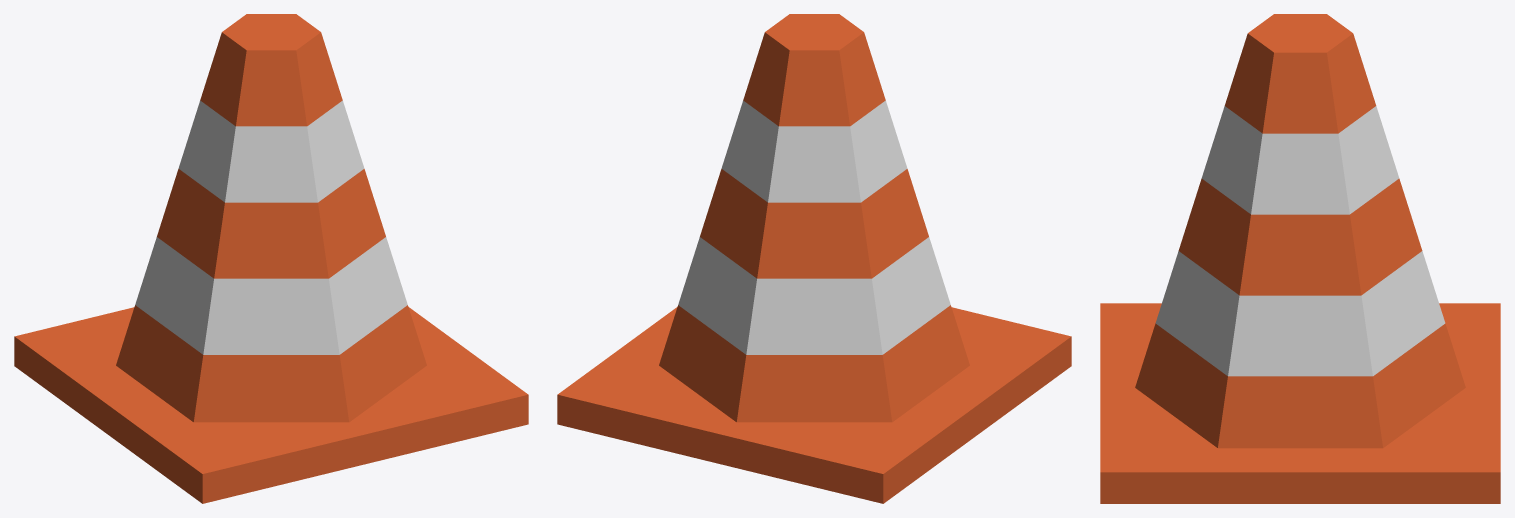
File: TrafficCone.fbx
3 renders of one model, left to right at view 1: azimuth 30°, elevation 25°; view 2: azimuth 150°, elevation 25°; view 3: azimuth 270°, elevation 25°, orthographic. The views are drawn at different scales.
Visible parts, largest first — view 1: Cube; view 2: Cube; view 3: Cube.
Boxes of the visible parts, <box> form: Cube: <box>14,14,528,503</box>; Cube: <box>557,14,1071,503</box>; Cube: <box>1100,14,1500,503</box>.
Bounding box in the file's own units: 79.73 × 84.9 × 79.73.
